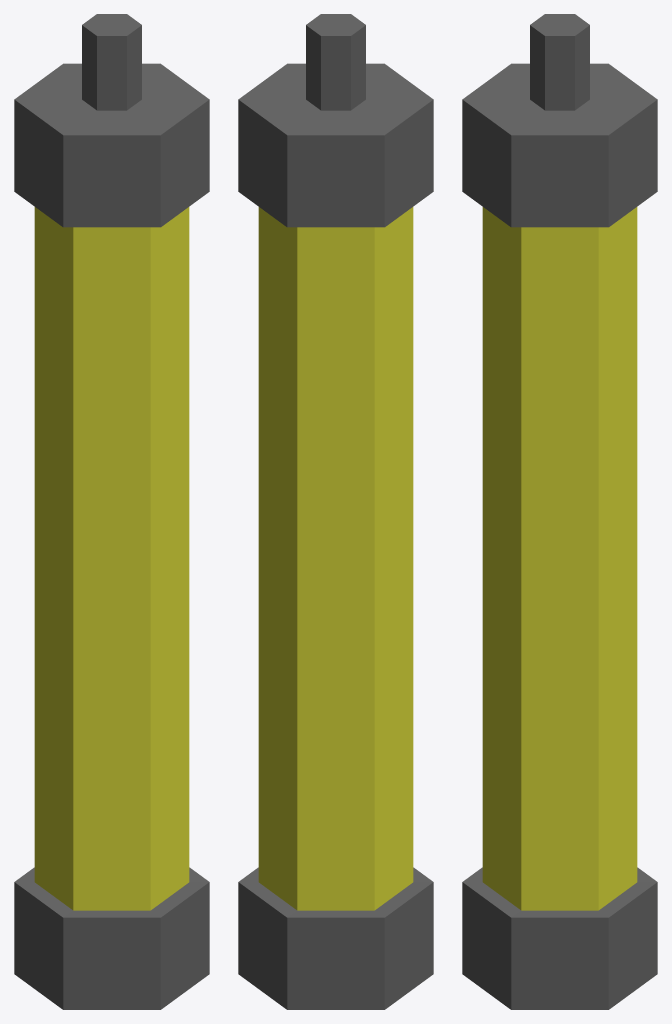
The model's file is Horror2020_Fuse.fbx.
The picture shows the model from 3 angles, left to right: view 1: azimuth 30°, elevation 25°; view 2: azimuth 150°, elevation 25°; view 3: azimuth 270°, elevation 25°; orthographic projection.
Visible parts, largest first — view 1: Fuse; view 2: Fuse; view 3: Fuse.
Boxes of the visible parts, box(x1,y1,x2,y2) form: Fuse: box(14, 14, 209, 1009); Fuse: box(238, 14, 433, 1009); Fuse: box(462, 14, 657, 1009).
Size of the model in its own units: 24.5 by 152 by 28.29.
